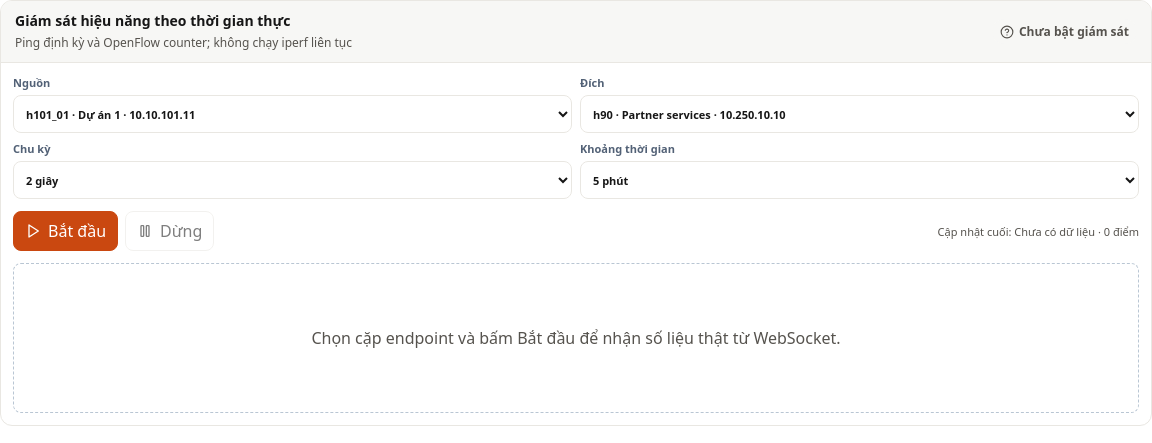
RealtimePanel › stops monitoring without starting iperf
Step 1. Click the button "Bắt đầu" → (66, 231), box [13,211,118,251]
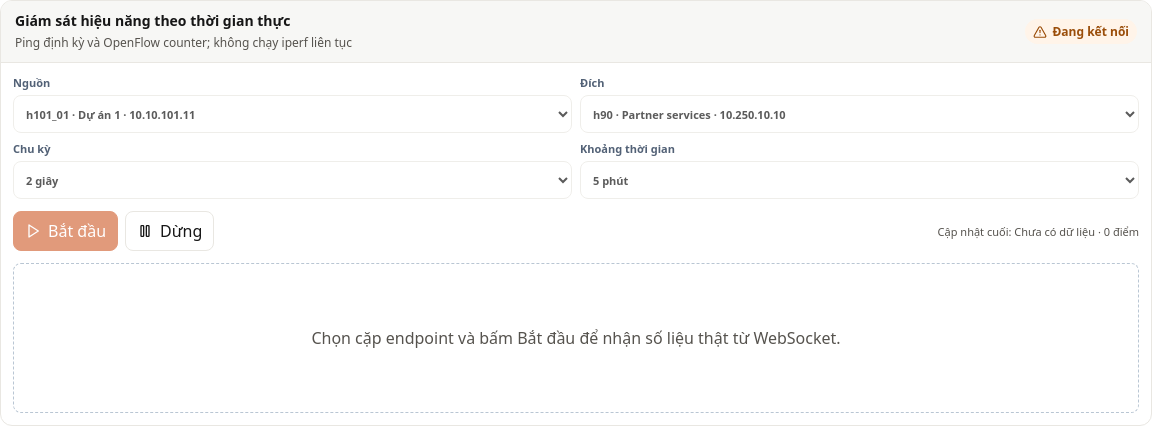
Step 2. Click the button "Dừng" → (170, 231), box [125,211,214,251]
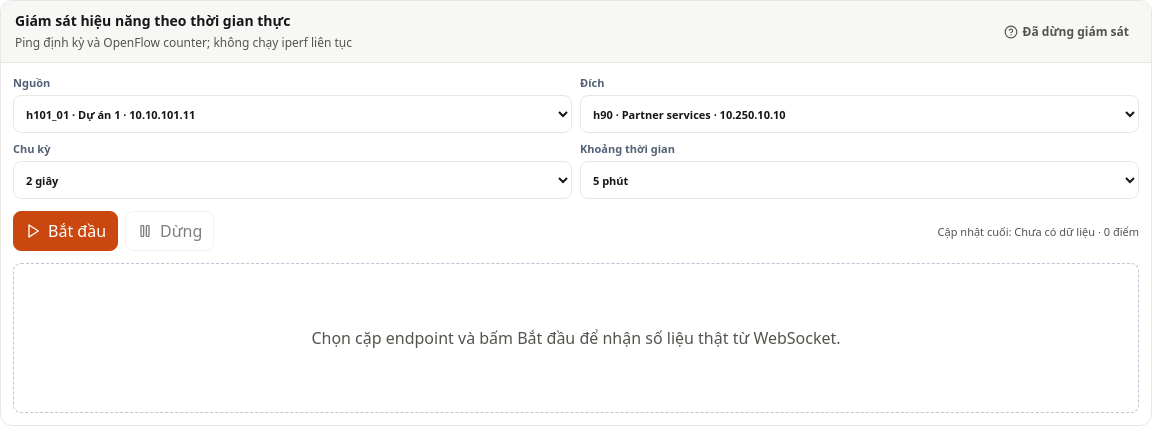
Expected: the button "Bắt đầu" is enabled, [13,211,118,251]
